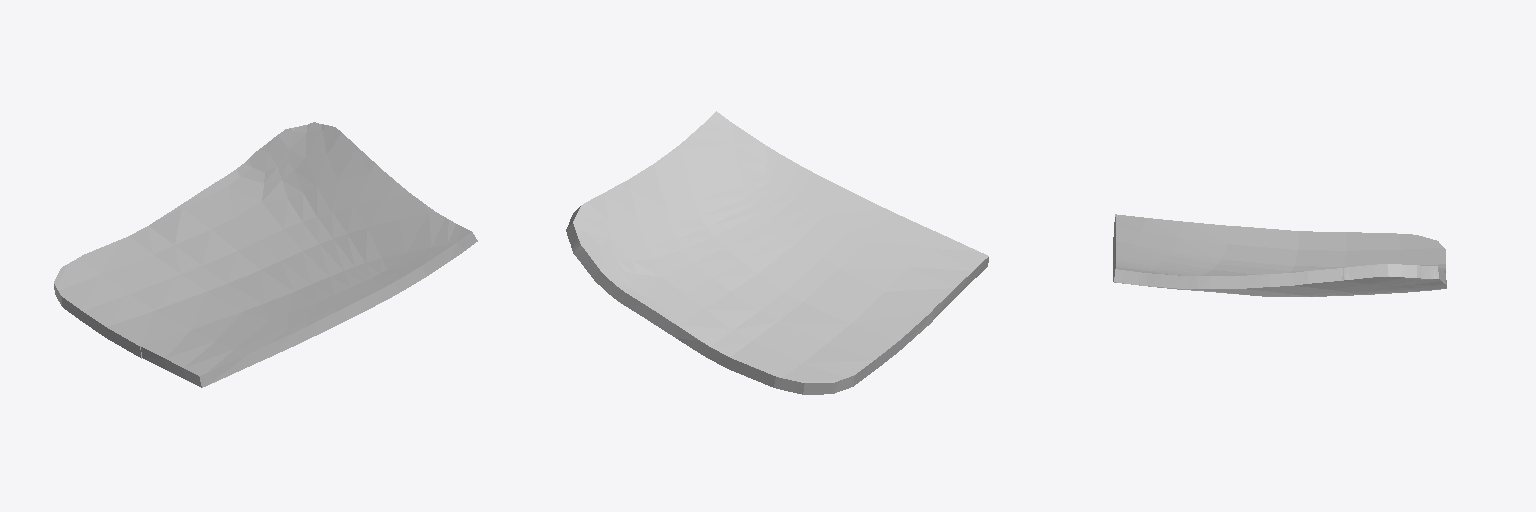
Rendered from pocket_round.obj.
3 views of the same model, side by side, from view 1: azimuth 30°, elevation 25°; view 2: azimuth 150°, elevation 25°; view 3: azimuth 270°, elevation 25° (orthographic).
Parts seen in each view (by area): view 1: bodyy001; view 2: bodyy001; view 3: bodyy001.
Boxes of the visible parts, box(x1,y1,x2,y2) form: bodyy001: box(54, 122, 477, 387); bodyy001: box(566, 111, 988, 394); bodyy001: box(1113, 214, 1446, 296).
Size of the model in its own units: 8.7 by 3.37 by 8.94.